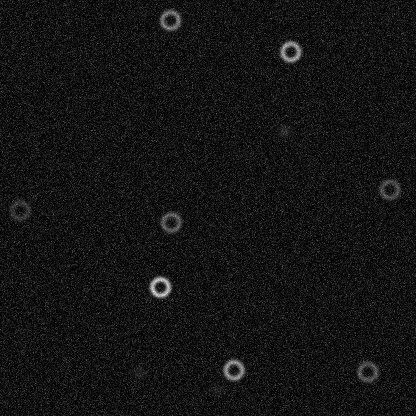Ring: (158, 7, 182, 31), (221, 357, 245, 381), (147, 274, 171, 298), (278, 39, 302, 63), (377, 177, 401, 201), (159, 210, 183, 234), (355, 359, 379, 383), (7, 198, 31, 222)
Spot: (130, 365, 146, 381), (276, 122, 292, 138), (208, 381, 224, 397)
